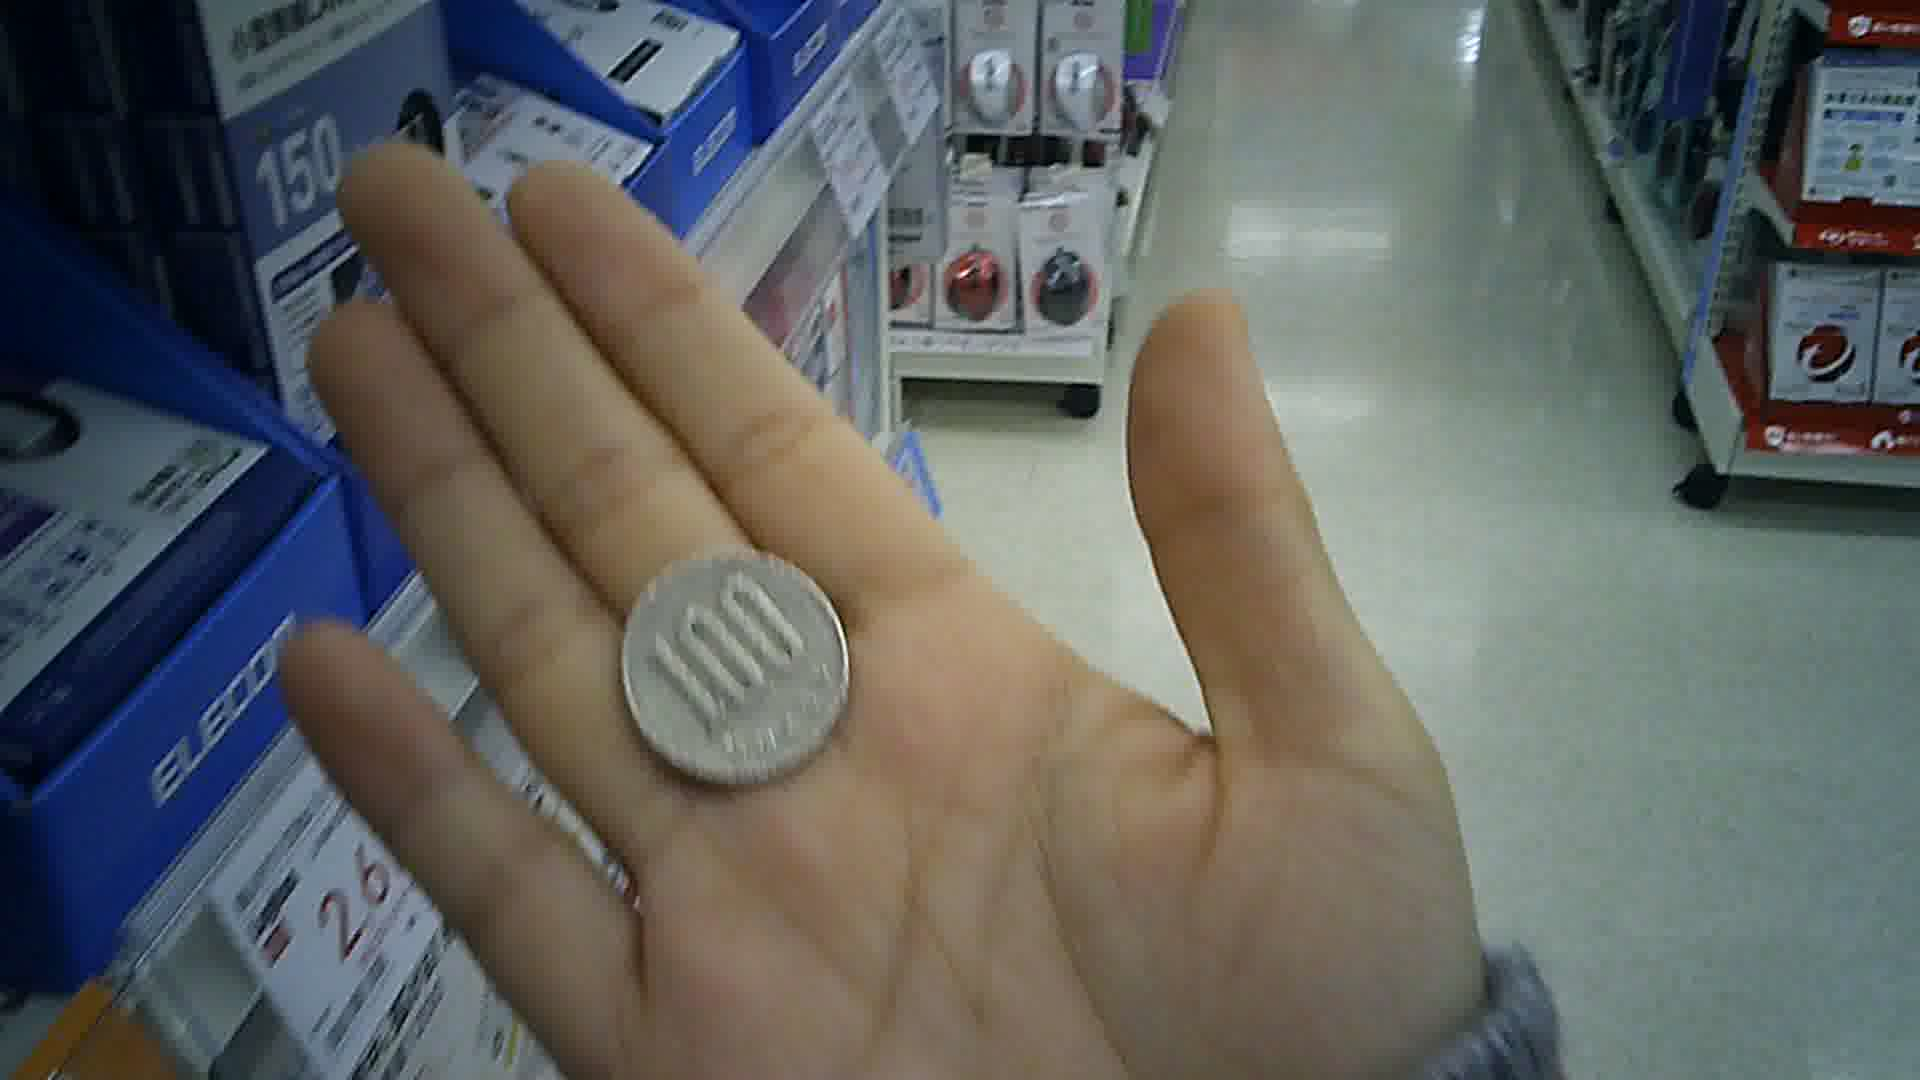100 Yen: (615, 539, 861, 793)
